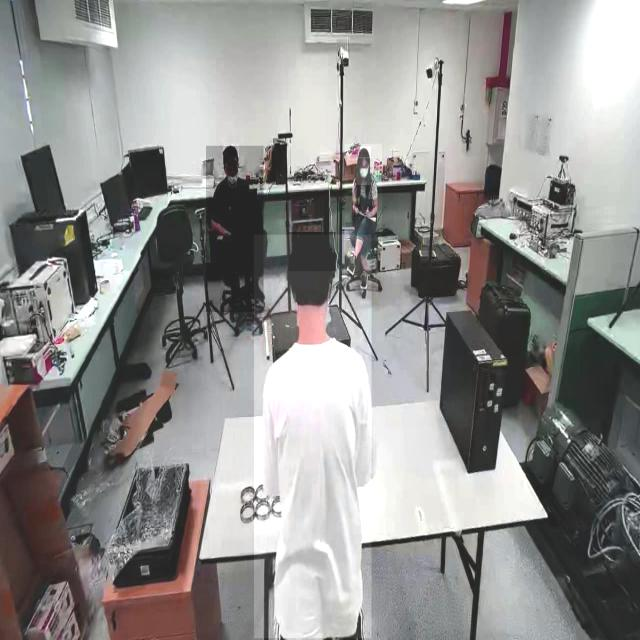face_mask: (356, 157, 371, 185)
face_nomask: (226, 155, 238, 177)
hand_noglove: (365, 205, 373, 219), (354, 204, 361, 218)
head_nohelmet: (288, 232, 336, 271), (223, 145, 239, 156), (358, 147, 371, 158)
person: (254, 235, 372, 639), (206, 146, 264, 313), (344, 144, 382, 275)
